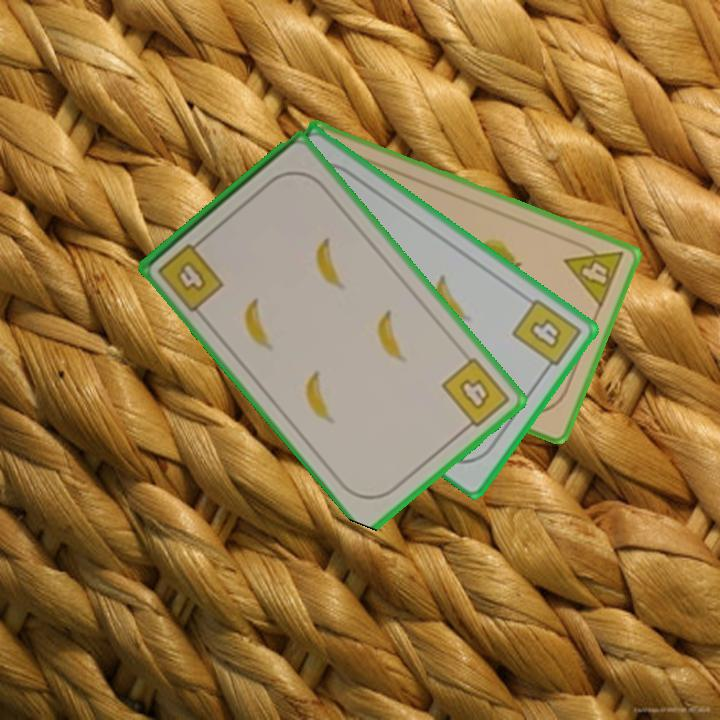4b: (508, 295, 585, 377), (438, 353, 513, 435), (154, 234, 228, 315)
4p: (561, 236, 627, 311)
